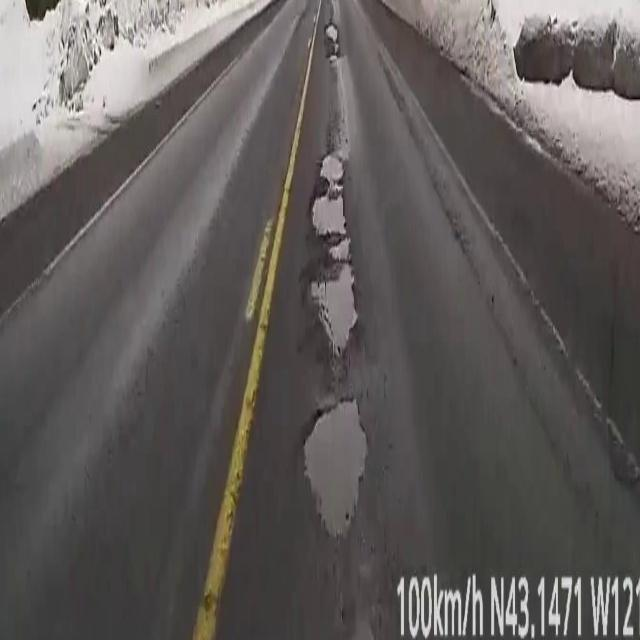pothole: (312, 150, 358, 358), (304, 400, 366, 536), (323, 27, 338, 58)
